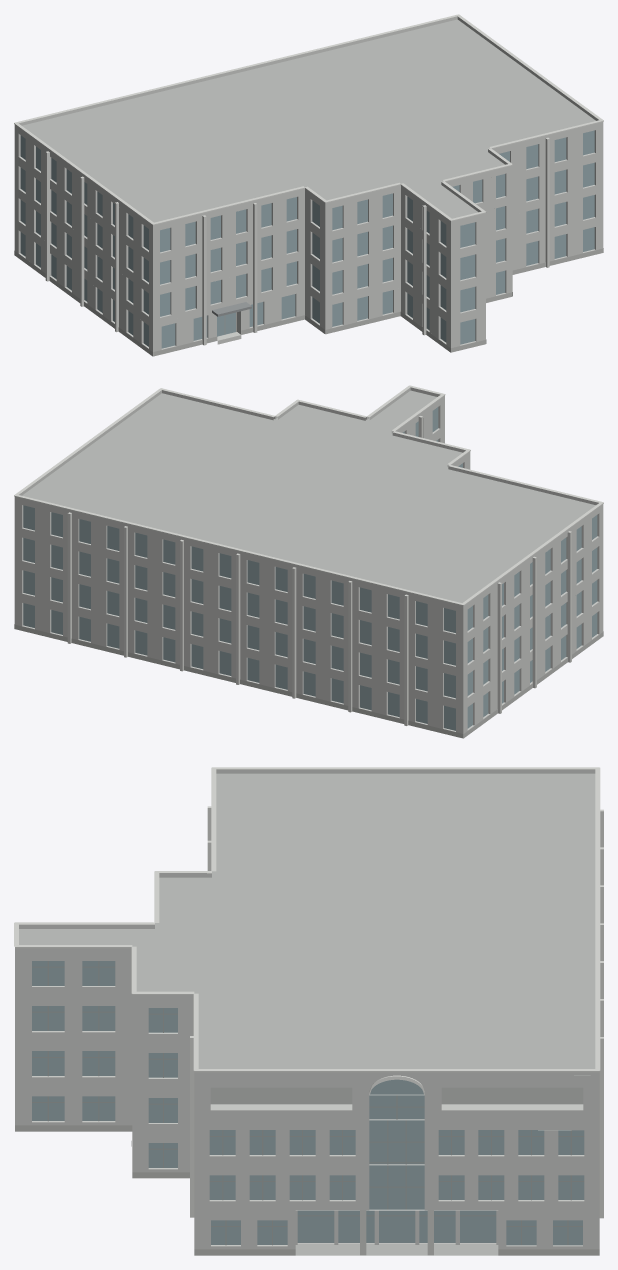
3 views of the same model, one above another, from view 1: azimuth 30°, elevation 25°; view 2: azimuth 150°, elevation 25°; view 3: azimuth 270°, elevation 25° (orthographic). The views are drawn at different scales.
Visible parts, largest first — view 1: b115951792__roof, b115951792__wall, b115951792__glass, b115951792__trim, b115951792__parapet, b115951792__base; view 2: b115951792__roof, b115951792__wall, b115951792__glass, b115951792__trim, b115951792__parapet, b115951792__base; view 3: b115951792__roof, b115951792__wall, b115951792__glass, b115951792__trim, b115951792__wall2, b115951792__parapet, b115951792__frame, b115951792__base, b115951792__column.
Part boxes in pixels (x1,y1,x2,y2): b115951792__roof: (22,19,595,222); b115951792__wall: (14,124,603,355); b115951792__glass: (20,130,594,348); b115951792__trim: (14,14,603,345); b115951792__parapet: (14,16,603,227); b115951792__base: (14,248,603,356); b115951792__roof: (22,390,595,602); b115951792__wall: (14,397,603,737); b115951792__glass: (23,407,597,730); b115951792__trim: (14,385,603,725); b115951792__parapet: (14,387,603,607); b115951792__base: (14,624,603,738); b115951792__roof: (19,773,595,1255); b115951792__wall: (15,951,599,1249); b115951792__glass: (32,961,584,1245); b115951792__trim: (14,767,603,1218); b115951792__wall2: (210,1087,583,1104); b115951792__parapet: (15,769,599,1075); b115951792__frame: (32,961,584,1245); b115951792__base: (15,1125,599,1255); b115951792__column: (360,1210,433,1255).
Bounding box in the file's own units: 52.34 × 15.15 × 42.71.
